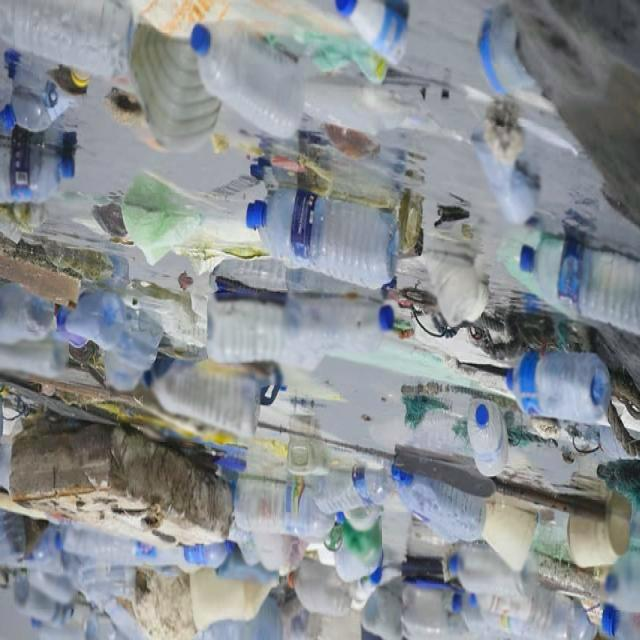Plastic: (243, 175, 398, 299), (185, 24, 308, 149), (103, 195, 266, 276), (513, 238, 640, 336), (391, 579, 593, 640), (126, 21, 225, 145), (0, 0, 136, 89), (501, 343, 615, 426), (151, 360, 268, 440), (206, 298, 334, 371), (231, 479, 353, 544), (470, 126, 546, 230), (412, 247, 493, 335), (271, 296, 397, 352), (390, 469, 487, 538), (476, 3, 538, 100), (332, 0, 413, 72), (41, 522, 159, 568), (436, 541, 535, 595), (0, 139, 79, 200), (11, 571, 90, 630), (56, 287, 126, 353), (462, 396, 513, 485), (485, 491, 539, 574), (564, 509, 628, 575), (110, 318, 162, 399), (3, 75, 72, 135), (310, 466, 398, 513), (192, 562, 275, 610), (0, 280, 49, 350), (286, 568, 353, 619), (0, 336, 72, 383), (199, 600, 283, 640), (351, 572, 396, 636), (594, 601, 640, 640)
Trash: (4, 426, 248, 562), (131, 572, 204, 640)
